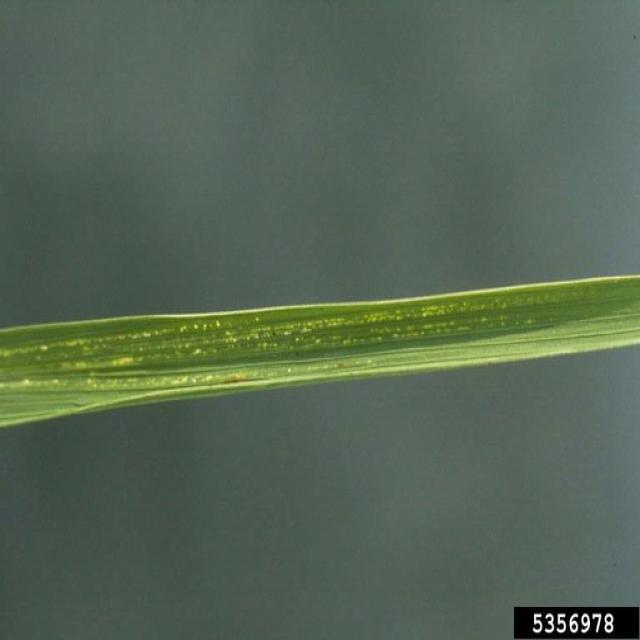Bacterial leaf blight: (9, 284, 590, 418)
